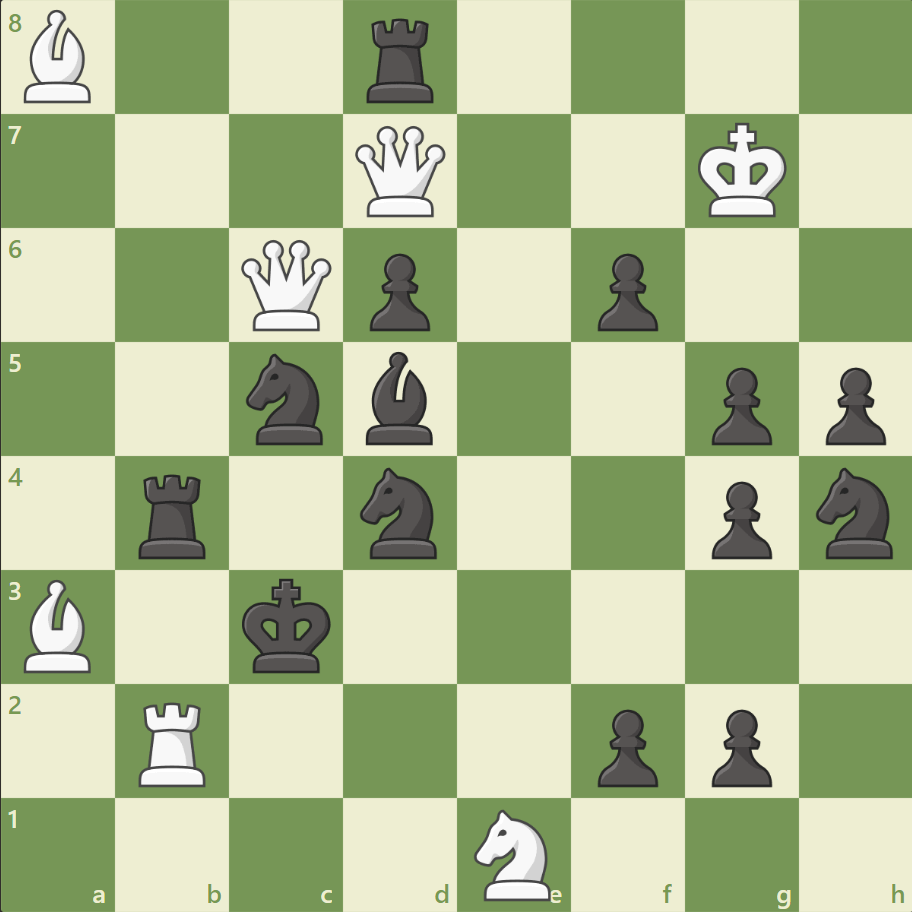B: (17, 6, 101, 109), (17, 574, 101, 676)
K: (692, 117, 792, 225)
N: (465, 802, 562, 904)
Q: (351, 122, 450, 222), (237, 236, 336, 335)
R: (133, 693, 215, 790)
b: (358, 347, 442, 449)
k: (238, 571, 338, 679)
n: (351, 461, 449, 564), (806, 461, 903, 564), (238, 348, 335, 450)
p: (701, 359, 776, 450), (701, 473, 776, 564), (701, 700, 776, 791), (361, 246, 435, 337), (588, 246, 662, 337), (815, 359, 889, 450), (588, 700, 662, 791)
r: (360, 12, 442, 109), (133, 466, 215, 563)
